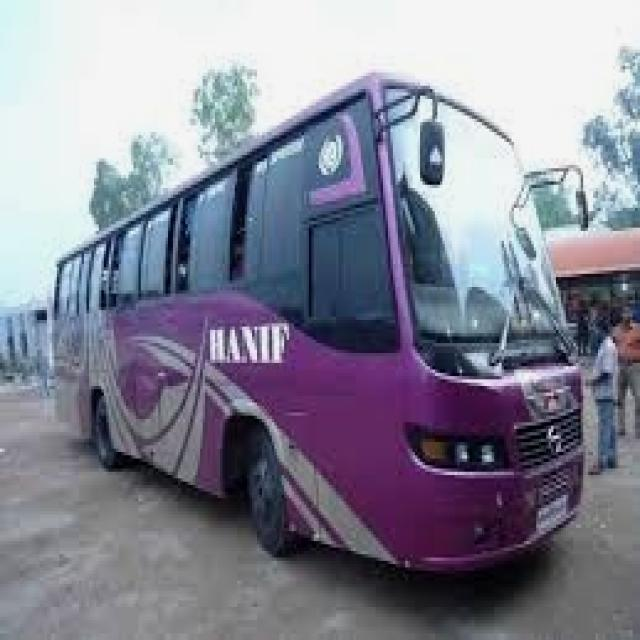bus: (44, 72, 586, 602)
